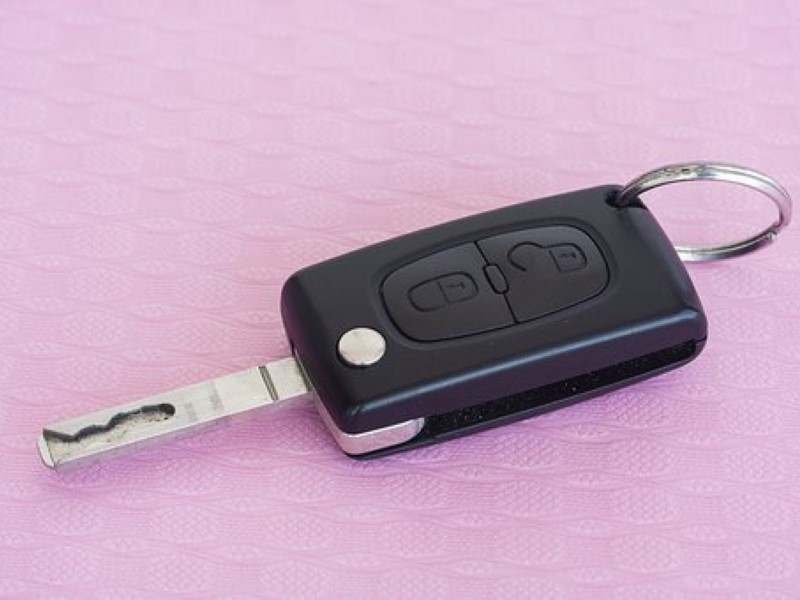carkey: (35, 159, 720, 478)
